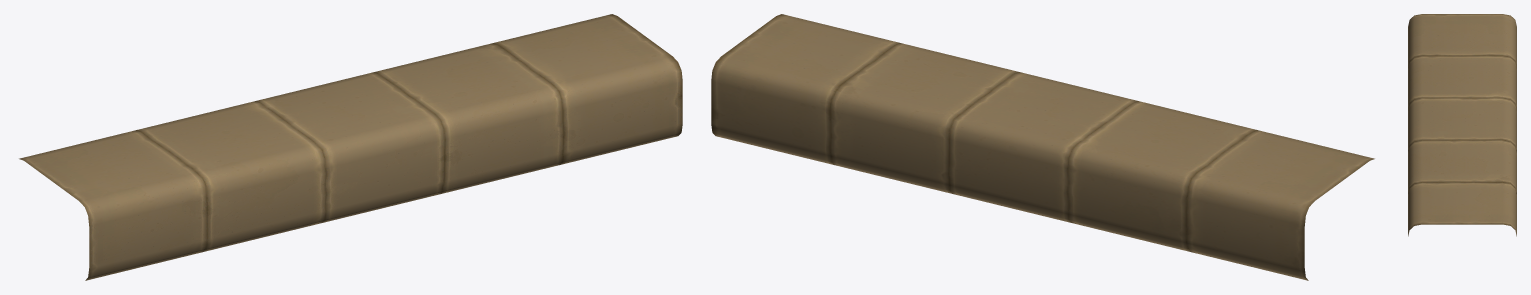
Rendered from SM_brick_building_04.glb.
3 views of the same model, side by side, from view 1: azimuth 30°, elevation 25°; view 2: azimuth 150°, elevation 25°; view 3: azimuth 270°, elevation 25° (orthographic). The views are drawn at different scales.
Parts seen in each view (by area): view 1: SM_brick_building_04; view 2: SM_brick_building_04; view 3: SM_brick_building_04.
Boxes of the visible parts, left/top/right/bottom form: SM_brick_building_04: left=19, top=14, right=682, bottom=280; SM_brick_building_04: left=711, top=14, right=1374, bottom=280; SM_brick_building_04: left=1408, top=14, right=1516, bottom=236.
Bounding box in the file's own units: 3.2 × 0.4 × 0.7.
Materials: 1 (1 with a texture image).
